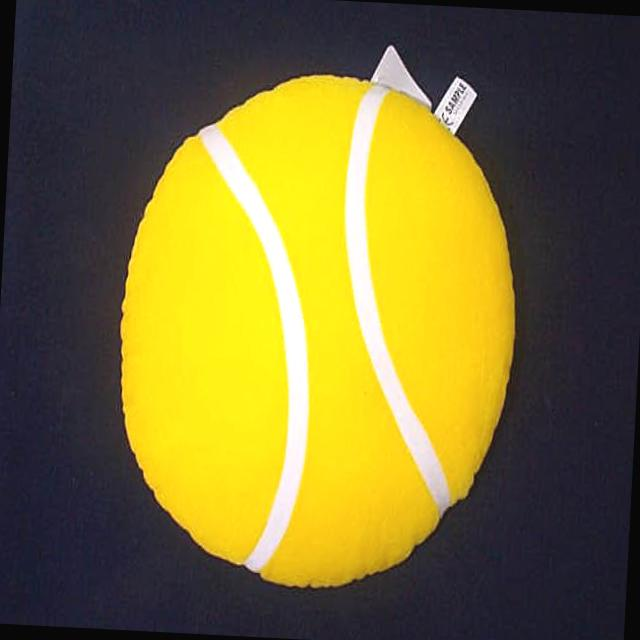Tennis Ball: (122, 75, 516, 590)
